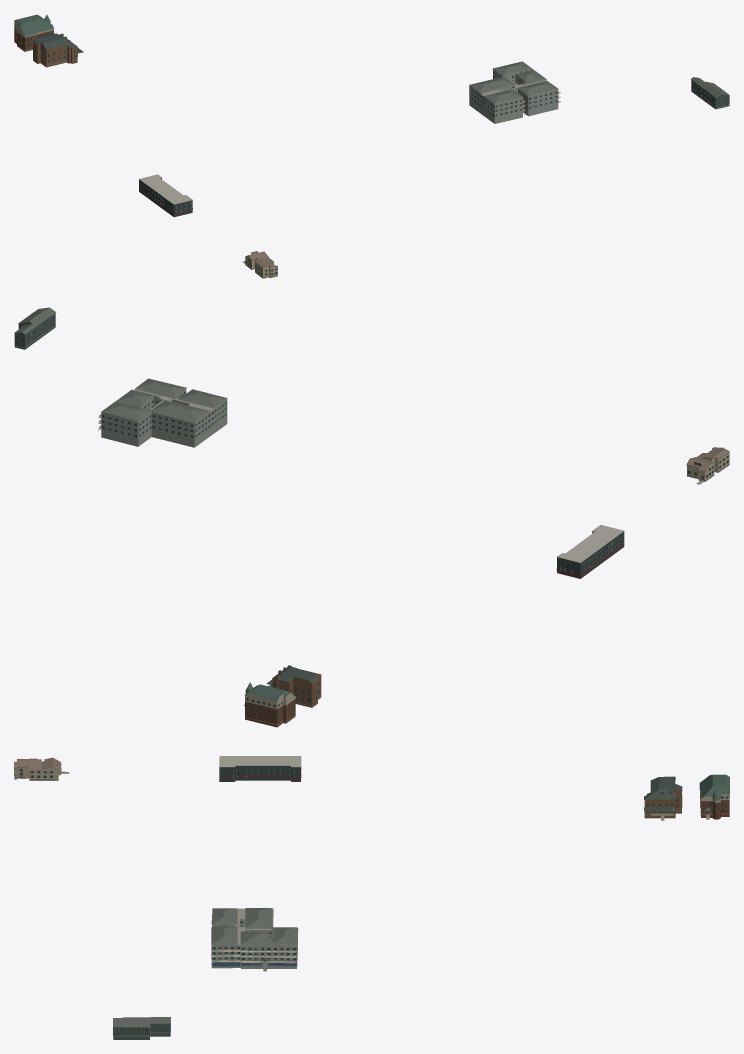
Rendered from site.glb.
3 views of the same model, one above another, from view 1: azimuth 30°, elevation 25°; view 2: azimuth 150°, elevation 25°; view 3: azimuth 270°, elevation 25° (orthographic). The views are drawn at different scales.
Parts seen in each view (by area): view 1: roof-80aadee0, roof-1a3a0846, roof-0587b8ad, roof-71f4af04, roof-73a1a032, roof-c7815e30; view 2: roof-80aadee0, roof-1a3a0846, roof-71f4af04, roof-0587b8ad, roof-73a1a032, roof-c7815e30; view 3: roof-80aadee0, roof-1a3a0846, roof-0587b8ad, roof-71f4af04, roof-73a1a032, roof-c7815e30.
Boxes of the visible parts, x1,y1,x2,y2 form: roof-80aadee0: [469, 61, 560, 123]; roof-1a3a0846: [139, 174, 192, 217]; roof-0587b8ad: [33, 33, 83, 67]; roof-71f4af04: [14, 14, 54, 51]; roof-73a1a032: [691, 77, 729, 109]; roof-c7815e30: [245, 251, 277, 278]; roof-80aadee0: [98, 378, 227, 447]; roof-1a3a0846: [556, 525, 624, 578]; roof-71f4af04: [245, 682, 295, 727]; roof-0587b8ad: [266, 665, 321, 707]; roof-73a1a032: [14, 307, 56, 349]; roof-c7815e30: [686, 447, 729, 481]; roof-80aadee0: [211, 908, 298, 969]; roof-1a3a0846: [219, 756, 301, 781]; roof-0587b8ad: [644, 776, 682, 818]; roof-71f4af04: [699, 774, 729, 819]; roof-73a1a032: [113, 1017, 170, 1039]; roof-c7815e30: [14, 757, 62, 780].
Bounding box in the file's own units: 350 × 27.02 × 362.
